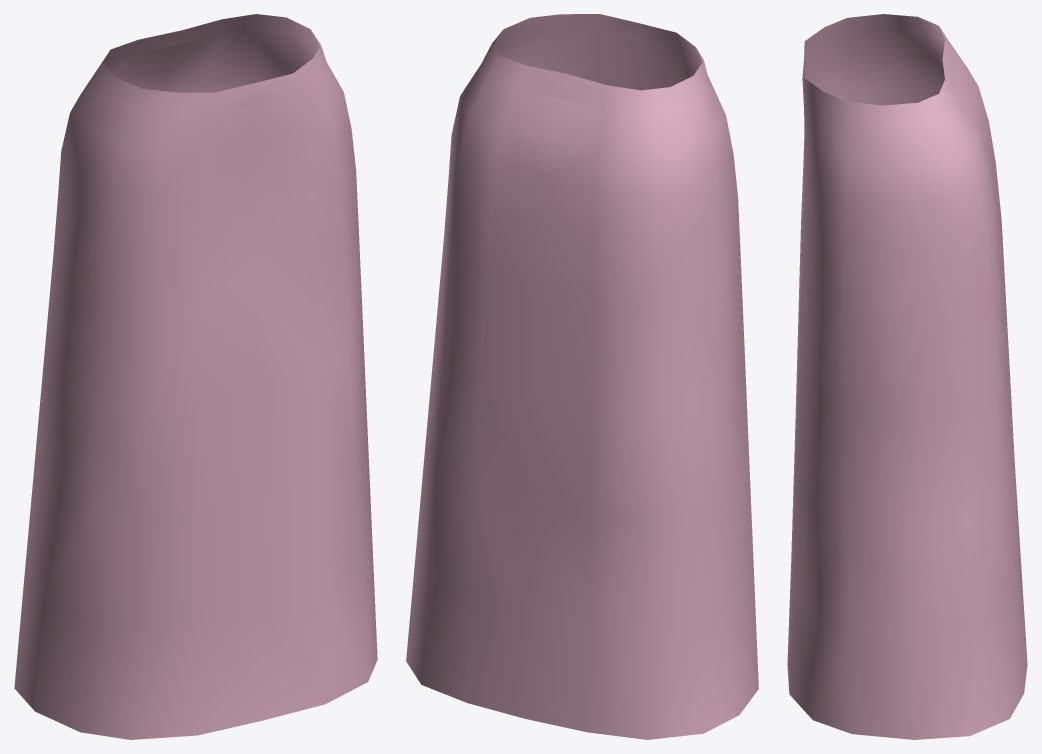
The model's file is Accordian_skirt.glb.
The picture shows the model from 3 angles, left to right: view 1: azimuth 30°, elevation 25°; view 2: azimuth 150°, elevation 25°; view 3: azimuth 270°, elevation 25°; orthographic projection. The views are drawn at different scales.
Parts seen in each view (by area): view 1: accordian_skirt; view 2: accordian_skirt; view 3: accordian_skirt.
Boxes of the visible parts, <box> form: accordian_skirt: <box>14,14,377,739</box>; accordian_skirt: <box>406,14,758,739</box>; accordian_skirt: <box>787,14,1027,739</box>.
Size of the model in its own units: 0.4134 by 0.7729 by 0.2781.
